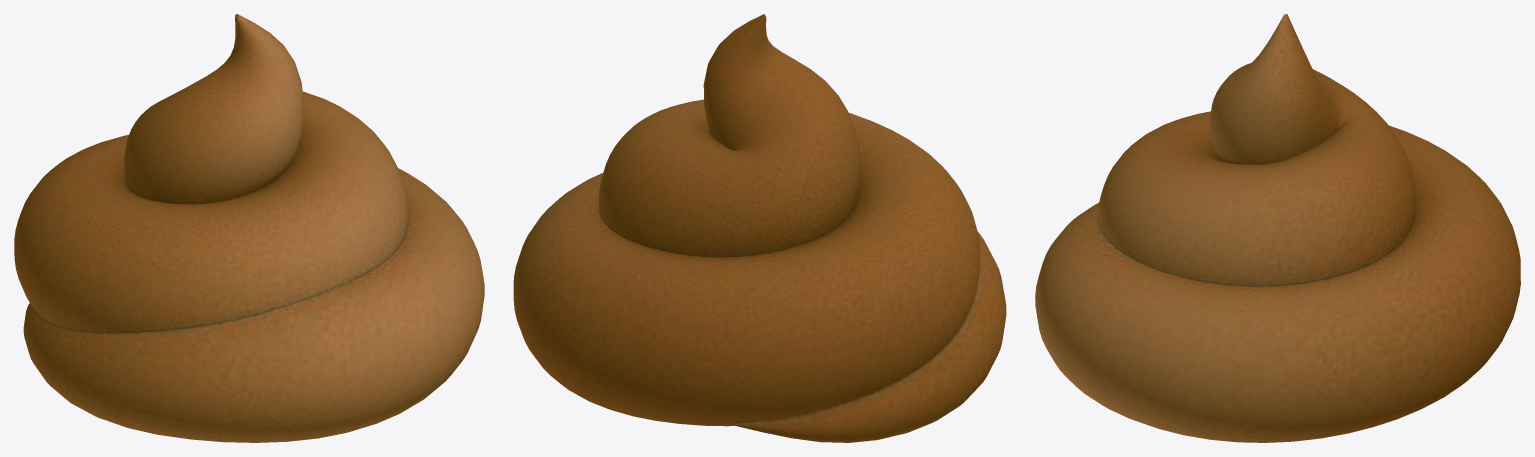
The model's file is shit.glb.
3 renders of one model, left to right at view 1: azimuth 30°, elevation 25°; view 2: azimuth 150°, elevation 25°; view 3: azimuth 270°, elevation 25°, orthographic. The views are drawn at different scales.
Visible parts, largest first — view 1: Spiral.001_0; view 2: Spiral.001_0; view 3: Spiral.001_0.
Boxes of the visible parts, x1,y1,x2,y2 form: Spiral.001_0: (14,14,484,442); Spiral.001_0: (513,14,1006,442); Spiral.001_0: (1035,14,1520,442).
Size of the model in its own units: 1.25 by 1.04 by 1.29.
1 material, 1 textured.
